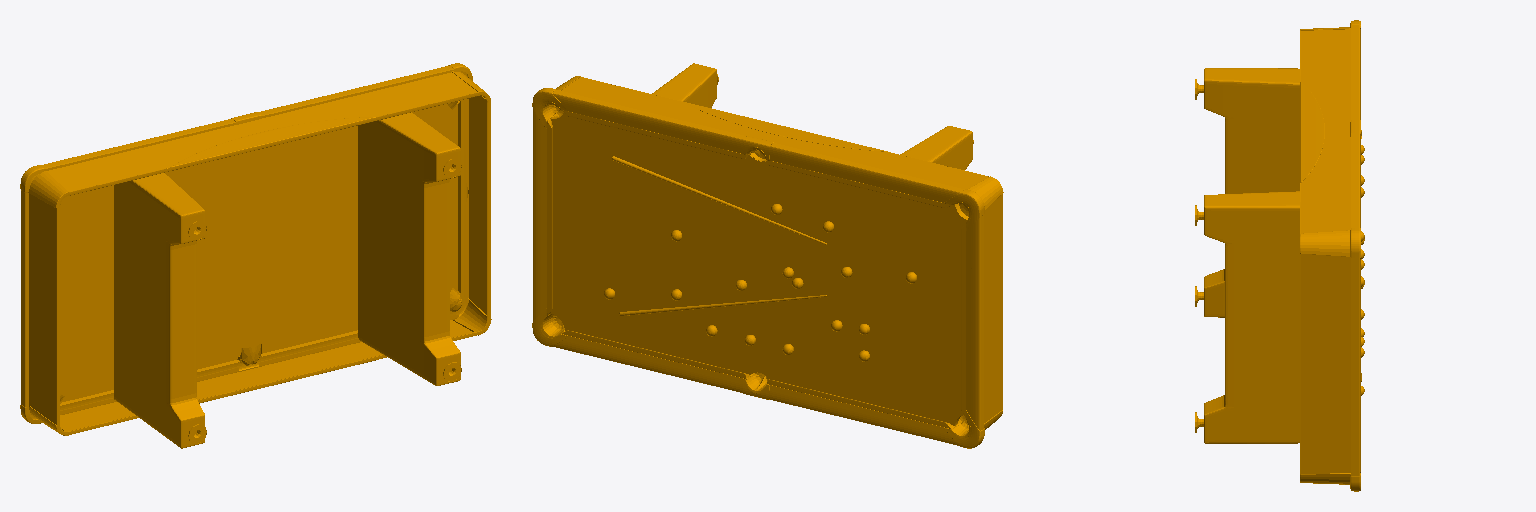
robot.urdf — none:
<robot name="none">
       <link name="none">
           <visual>
               <origin rpy="0 0 0" xyz="0 0 0" />
               <geometry>
                   <mesh filename="poolTable.obj" />
               </geometry>
           </visual>
          <collision>
	      <origin rpy="0 0 0" xyz="0 0.1658 0" />
              <geometry>
                  <box size="1.000000 0.321753 0.544062" />
              </geometry>
          </collision>

          <inertial>
            <mass value="10.0" />
            <inertia ixx="0.0" ixy="0.0" ixz="0.0" iyy="0.0" iyz="0.0" izz="0.0" />
          </inertial>
      </link>
  </robot>

--- What the picture shows (computed from the rendered views, not written in the file) ---
Views: 3 orthographic renders of the robot side by side, from view 1: azimuth 30°, elevation 25°; view 2: azimuth 150°, elevation 25°; view 3: azimuth 270°, elevation 25°.
Robot: none — 1 links, 0 joints (none); root link none; default pose: every joint at zero.
Visible links, largest first — view 1: none; view 2: none; view 3: none.
Link boxes in pixels (x1,y1,x2,y2): none: (20, 63, 491, 448); none: (532, 63, 1003, 448); none: (1195, 20, 1364, 491).
Bounding box of the posed robot: 1 × 0.3218 × 0.5441 m (x, y, z).
Meshes: 1 distinct files referenced, 1 mesh visuals loaded (1 OBJ).